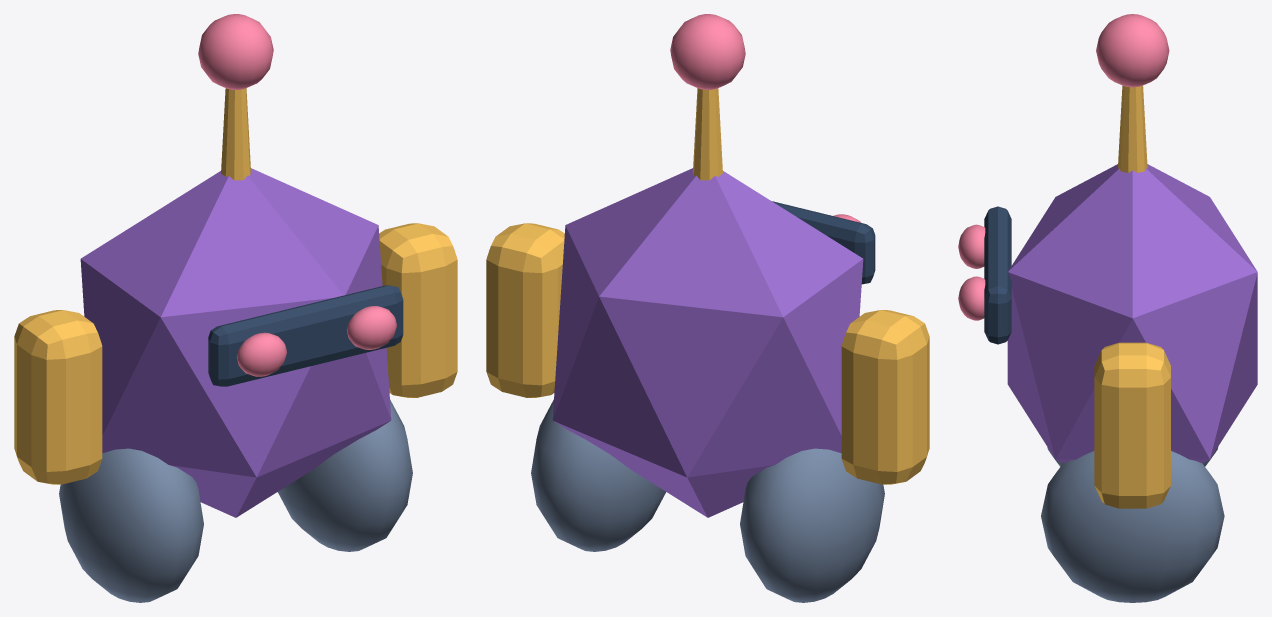
The model's file is robot.glb.
3 renders of one model, left to right at view 1: azimuth 30°, elevation 25°; view 2: azimuth 150°, elevation 25°; view 3: azimuth 270°, elevation 25°, orthographic. The views are drawn at different scales.
Parts seen in each view (by area): view 1: Robot body, Wheel, Arm, Wheel.001, Arm.001, Visor, Antenna lamp, Antenna, Robot eye, Robot eye.001; view 2: Robot body, Wheel, Arm, Arm.001, Wheel.001, Antenna lamp, Visor, Antenna; view 3: Robot body, Wheel.001, Arm.001, Antenna lamp, Visor, Antenna, Robot eye, Robot eye.001.
Part boxes in pixels (left/top/right/bottom): Robot body: left=80, top=168, right=391, bottom=517; Wheel: left=59, top=448, right=203, bottom=602; Arm: left=14, top=310, right=102, bottom=484; Wheel.001: left=278, top=399, right=412, bottom=551; Arm.001: left=379, top=223, right=457, bottom=397; Visor: left=208, top=285, right=403, bottom=386; Antenna lamp: left=198, top=14, right=273, bottom=89; Antenna: left=221, top=88, right=250, bottom=180; Robot eye: left=236, top=332, right=286, bottom=376; Robot eye.001: left=346, top=306, right=396, bottom=349; Robot body: left=552, top=168, right=863, bottom=517; Wheel: left=740, top=448, right=884, bottom=602; Arm: left=841, top=310, right=929, bottom=484; Arm.001: left=486, top=223, right=564, bottom=397; Wheel.001: left=531, top=399, right=665, bottom=551; Antenna lamp: left=670, top=14, right=745, bottom=89; Visor: left=772, top=201, right=875, bottom=284; Antenna: left=693, top=88, right=722, bottom=180; Robot body: left=1007, top=164, right=1257, bottom=463; Wheel.001: left=1041, top=451, right=1224, bottom=602; Arm.001: left=1094, top=342, right=1170, bottom=508; Antenna lamp: left=1096, top=14, right=1169, bottom=87; Visor: left=984, top=206, right=1011, bottom=344; Antenna: left=1118, top=85, right=1147, bottom=172; Robot eye: left=958, top=224, right=985, bottom=268; Robot eye.001: left=958, top=276, right=985, bottom=320.
Bounding box in the file's own units: 1.54 × 1.92 × 0.9783.
